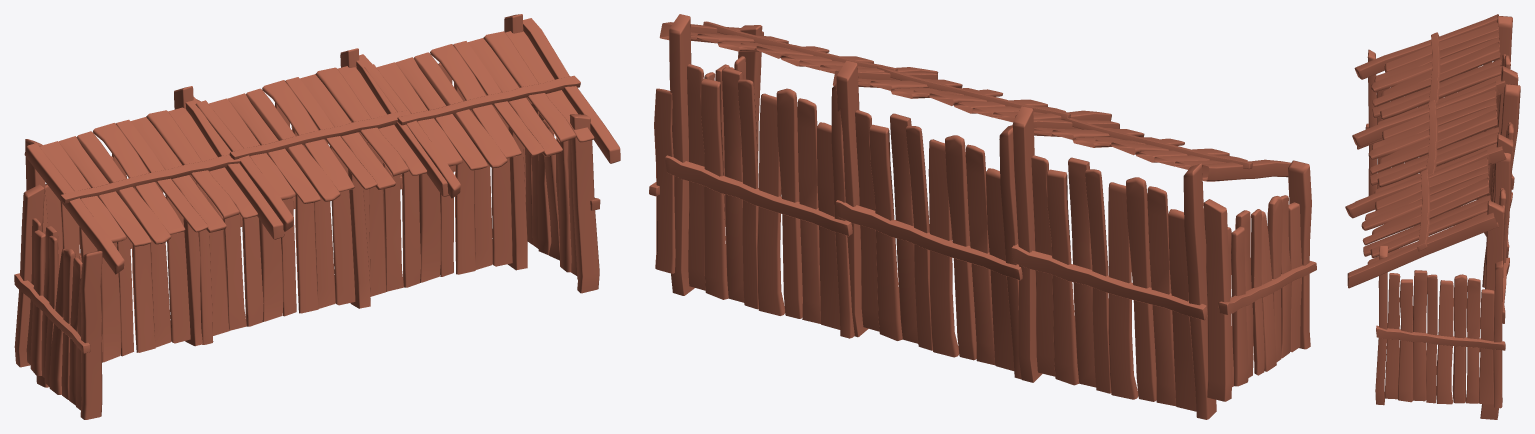
The model's file is prop_shed_02.FBX.
The picture shows the model from 3 angles, left to right: view 1: azimuth 30°, elevation 25°; view 2: azimuth 150°, elevation 25°; view 3: azimuth 270°, elevation 25°; orthographic projection. The views are drawn at different scales.
Parts seen in each view (by area): view 1: prop_shed_02_LOD0; view 2: prop_shed_02_LOD0; view 3: prop_shed_02_LOD0.
Boxes of the visible parts, x1,y1,x2,y2 form: prop_shed_02_LOD0: (14,14,620,419); prop_shed_02_LOD0: (649,14,1316,419); prop_shed_02_LOD0: (1345,14,1520,419).
Size of what is drawn, in the model's own units: 5738 by 2613 by 1926.
